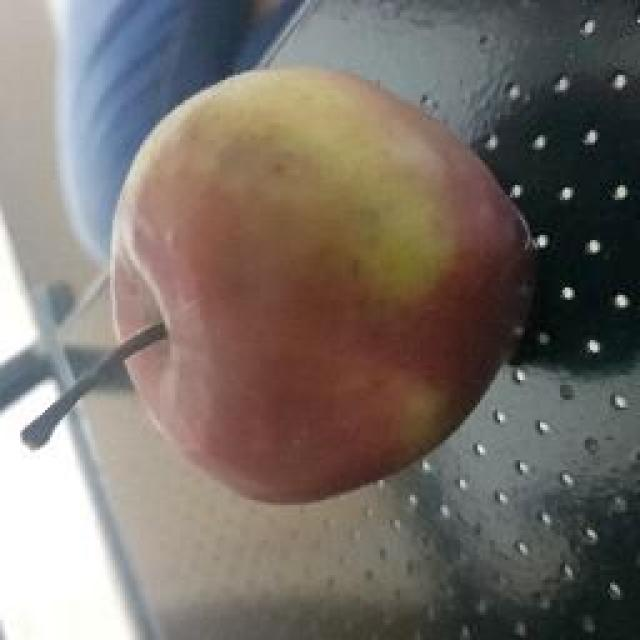Good_Apple: (105, 65, 540, 508)
